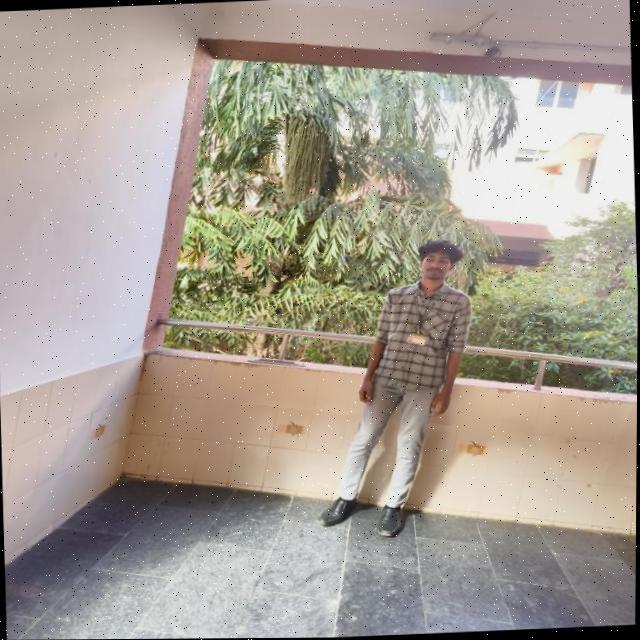id_card: (405, 287, 435, 347)
